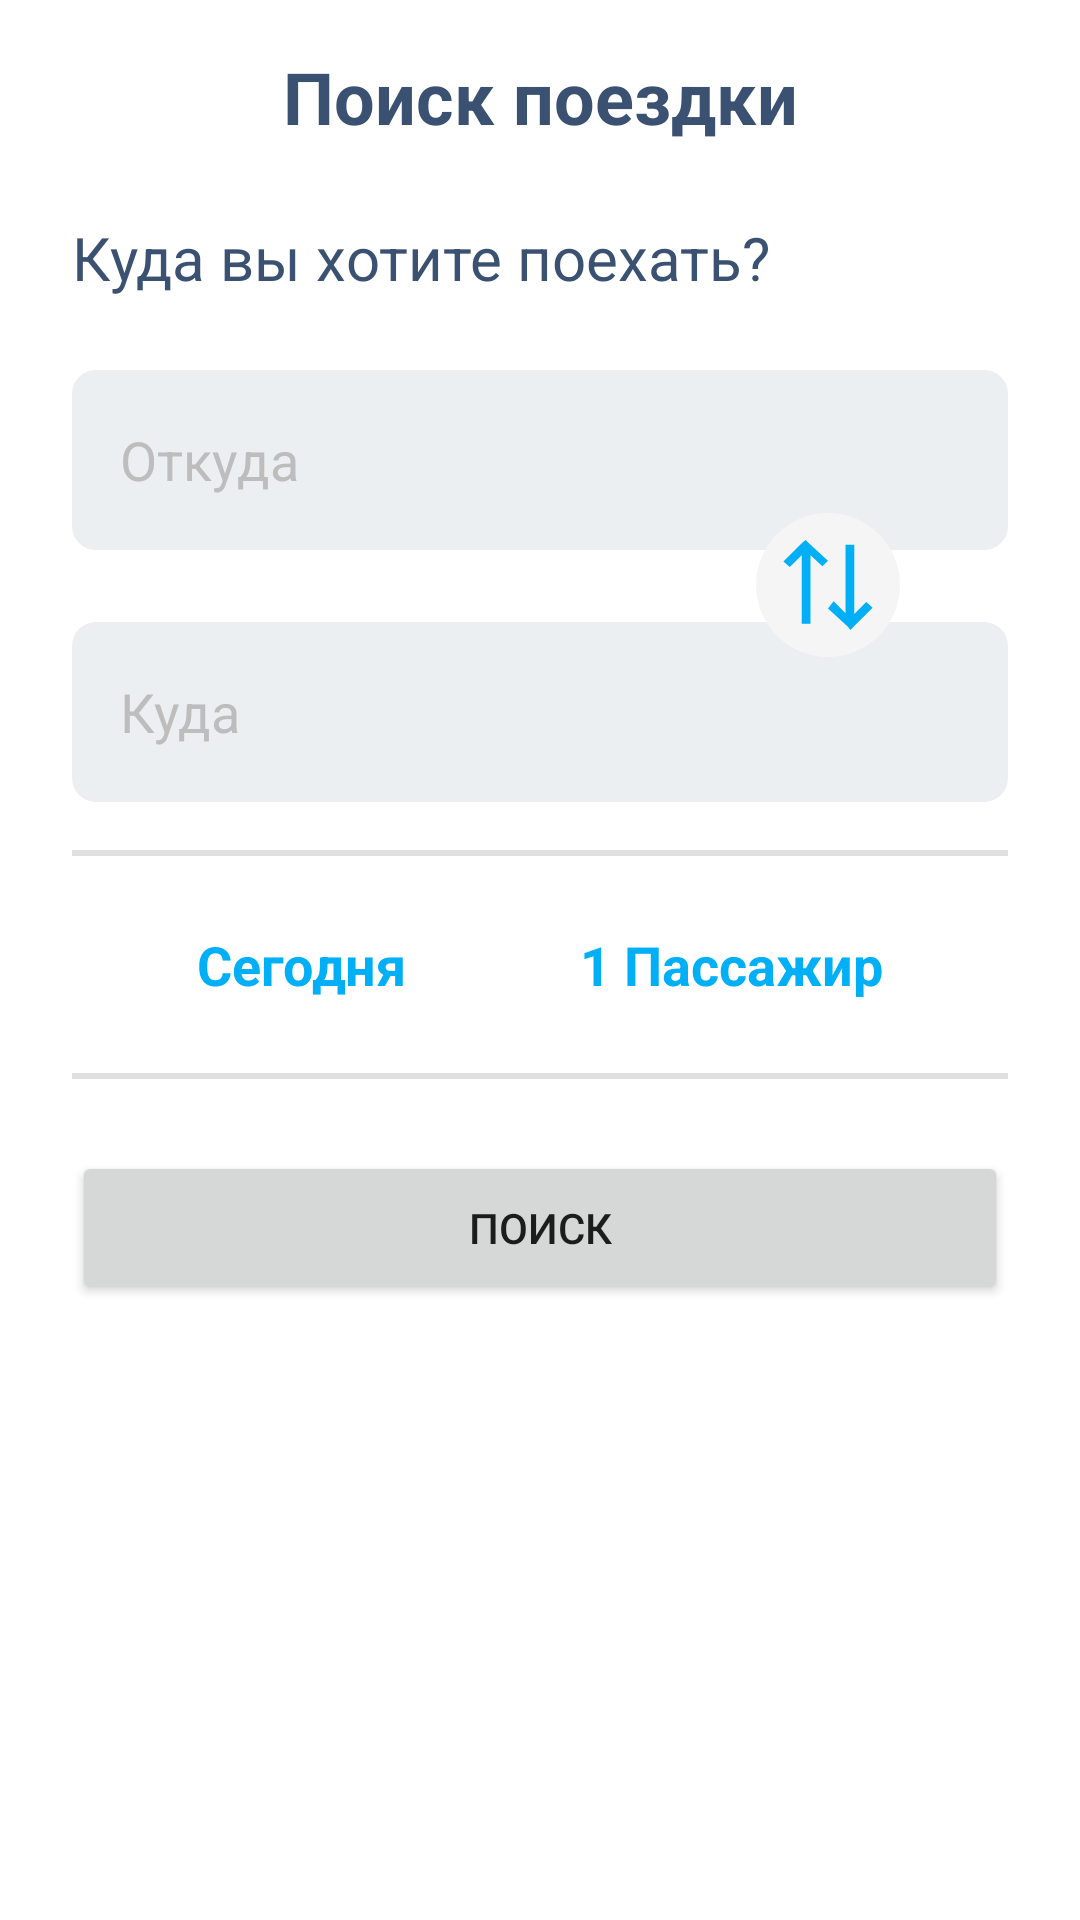

Icons on this 1080px x 1920px Android screen, each with its box as (x1, y1, x2, y2):
arrow: (756, 513, 900, 657)
